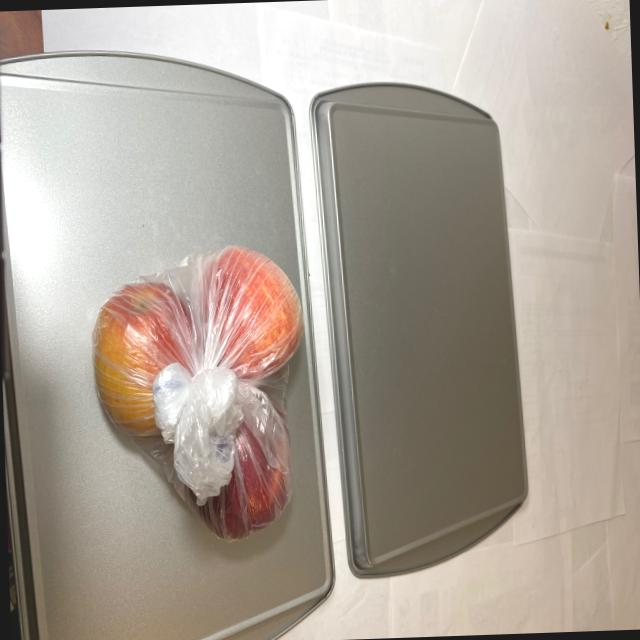apple: (88, 235, 312, 548)
